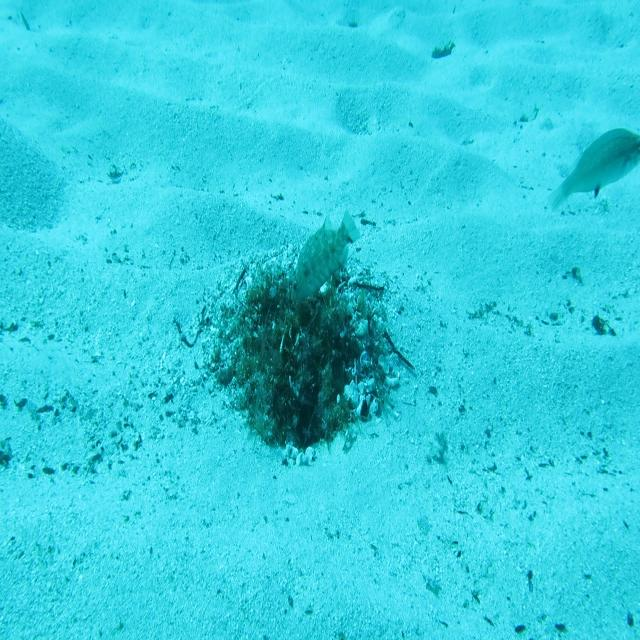INSF: (288, 205, 363, 303)
core_nest: (272, 292, 319, 323)
female: (547, 124, 640, 220)
nest: (204, 245, 410, 475)
vegetation: (432, 37, 458, 62)
